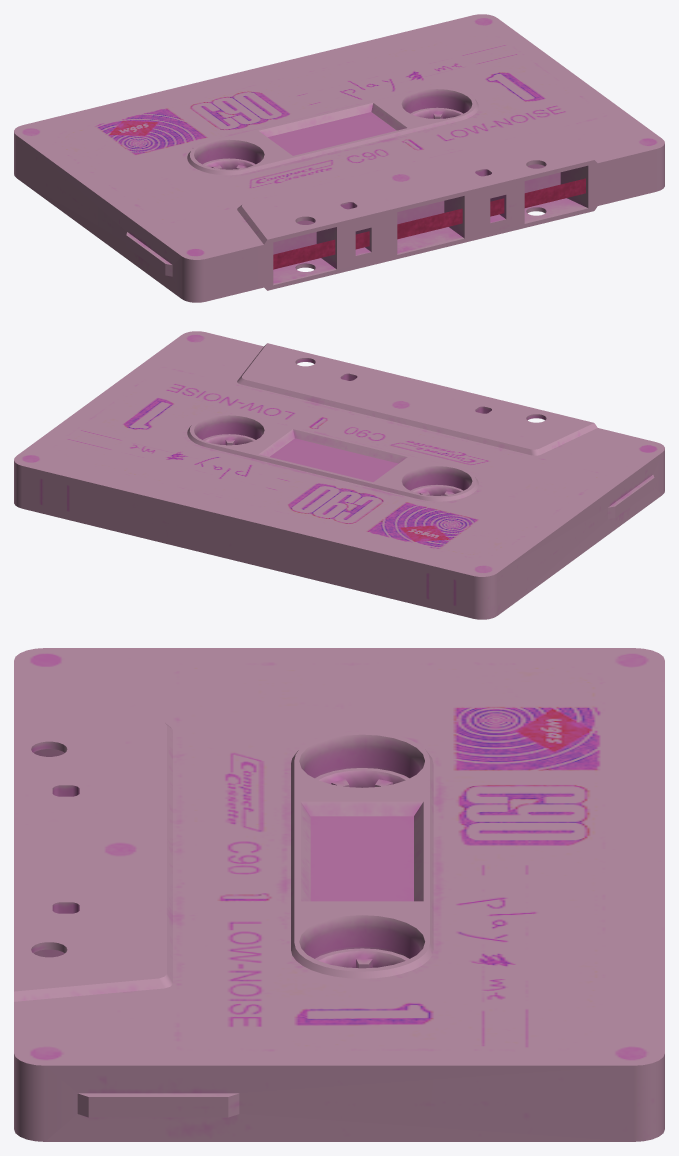
File: caset2.glb
3 views of the same model, one above another, from view 1: azimuth 30°, elevation 25°; view 2: azimuth 150°, elevation 25°; view 3: azimuth 270°, elevation 25° (orthographic). The views are drawn at different scales.
Visible parts, largest first — view 1: Object_11; view 2: Object_11; view 3: Object_11.
Part boxes in pixels (x1,y1,x2,y2): Object_11: (14,14,664,302); Object_11: (14,331,664,619); Object_11: (14,648,664,1141).
Size of the model in its own units: 0.1017 by 0.0102 by 0.0659.
1 material, 1 textured.
